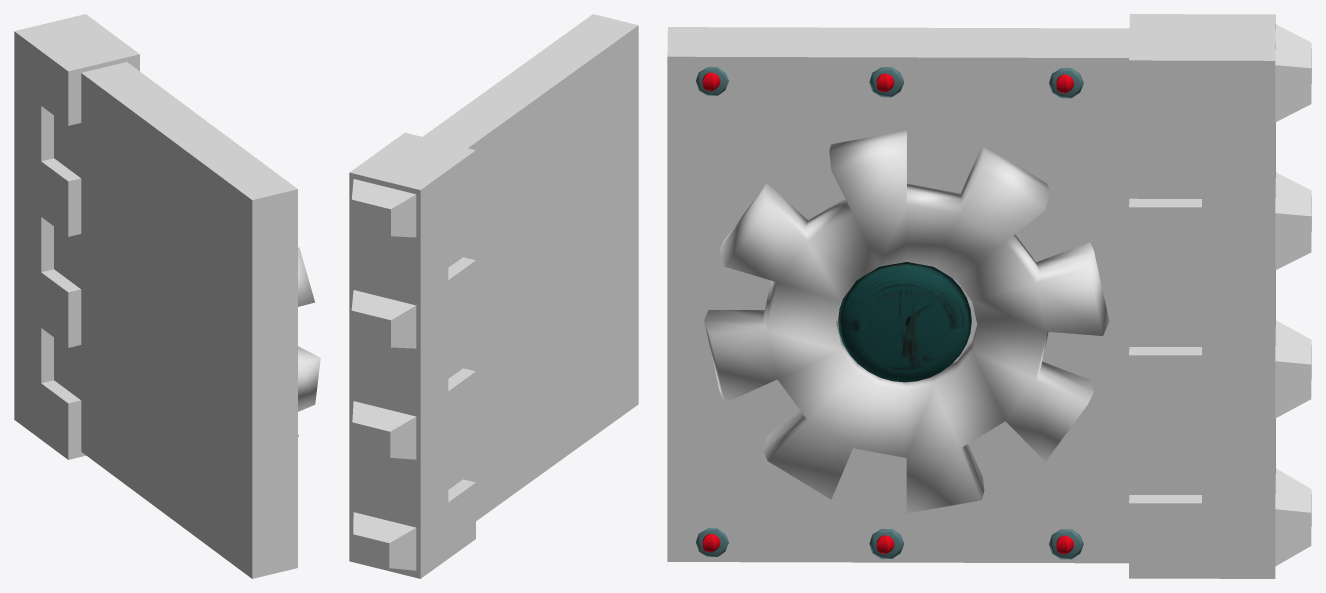
Rendered from двери.fbx.
3 views of the same model, side by side, from view 1: azimuth 30°, elevation 25°; view 2: azimuth 150°, elevation 25°; view 3: azimuth 270°, elevation 25° (orthographic). The views are drawn at different scales.
Parts seen in each view (by area): view 1: Cube.004, Cube.009, Torus.004; view 2: Cube.004, Cube.009; view 3: Cube.004, Torus.004, Cube.009, Cylinder.006, Sphere.013, Sphere.010, Sphere.009, Sphere.011.
Part boxes in pixels (left/top/right/bottom): Cube.004: left=54, top=62, right=297, bottom=578; Cube.009: left=14, top=14, right=139, bottom=459; Torus.004: left=298, top=247, right=320, bottom=436; Cube.004: left=423, top=14, right=638, bottom=520; Cube.009: left=349, top=132, right=475, bottom=578; Cube.004: left=667, top=27, right=1201, bottom=563; Torus.004: left=704, top=130, right=1109, bottom=513; Cube.009: left=1129, top=14, right=1311, bottom=578; Cylinder.006: left=838, top=262, right=971, bottom=382; Sphere.013: left=1049, top=529, right=1083, bottom=559; Sphere.010: left=1049, top=68, right=1083, bottom=98; Sphere.009: left=869, top=67, right=903, bottom=97; Sphere.011: left=869, top=528, right=903, bottom=558.
Bounding box in the file's own units: 309 × 1185 × 1336.
